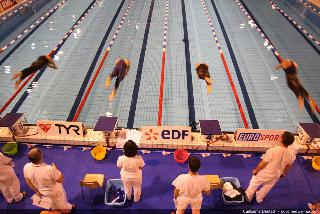swimmer: (276, 57, 317, 113), (10, 54, 60, 88), (104, 58, 130, 102), (194, 62, 213, 96)
